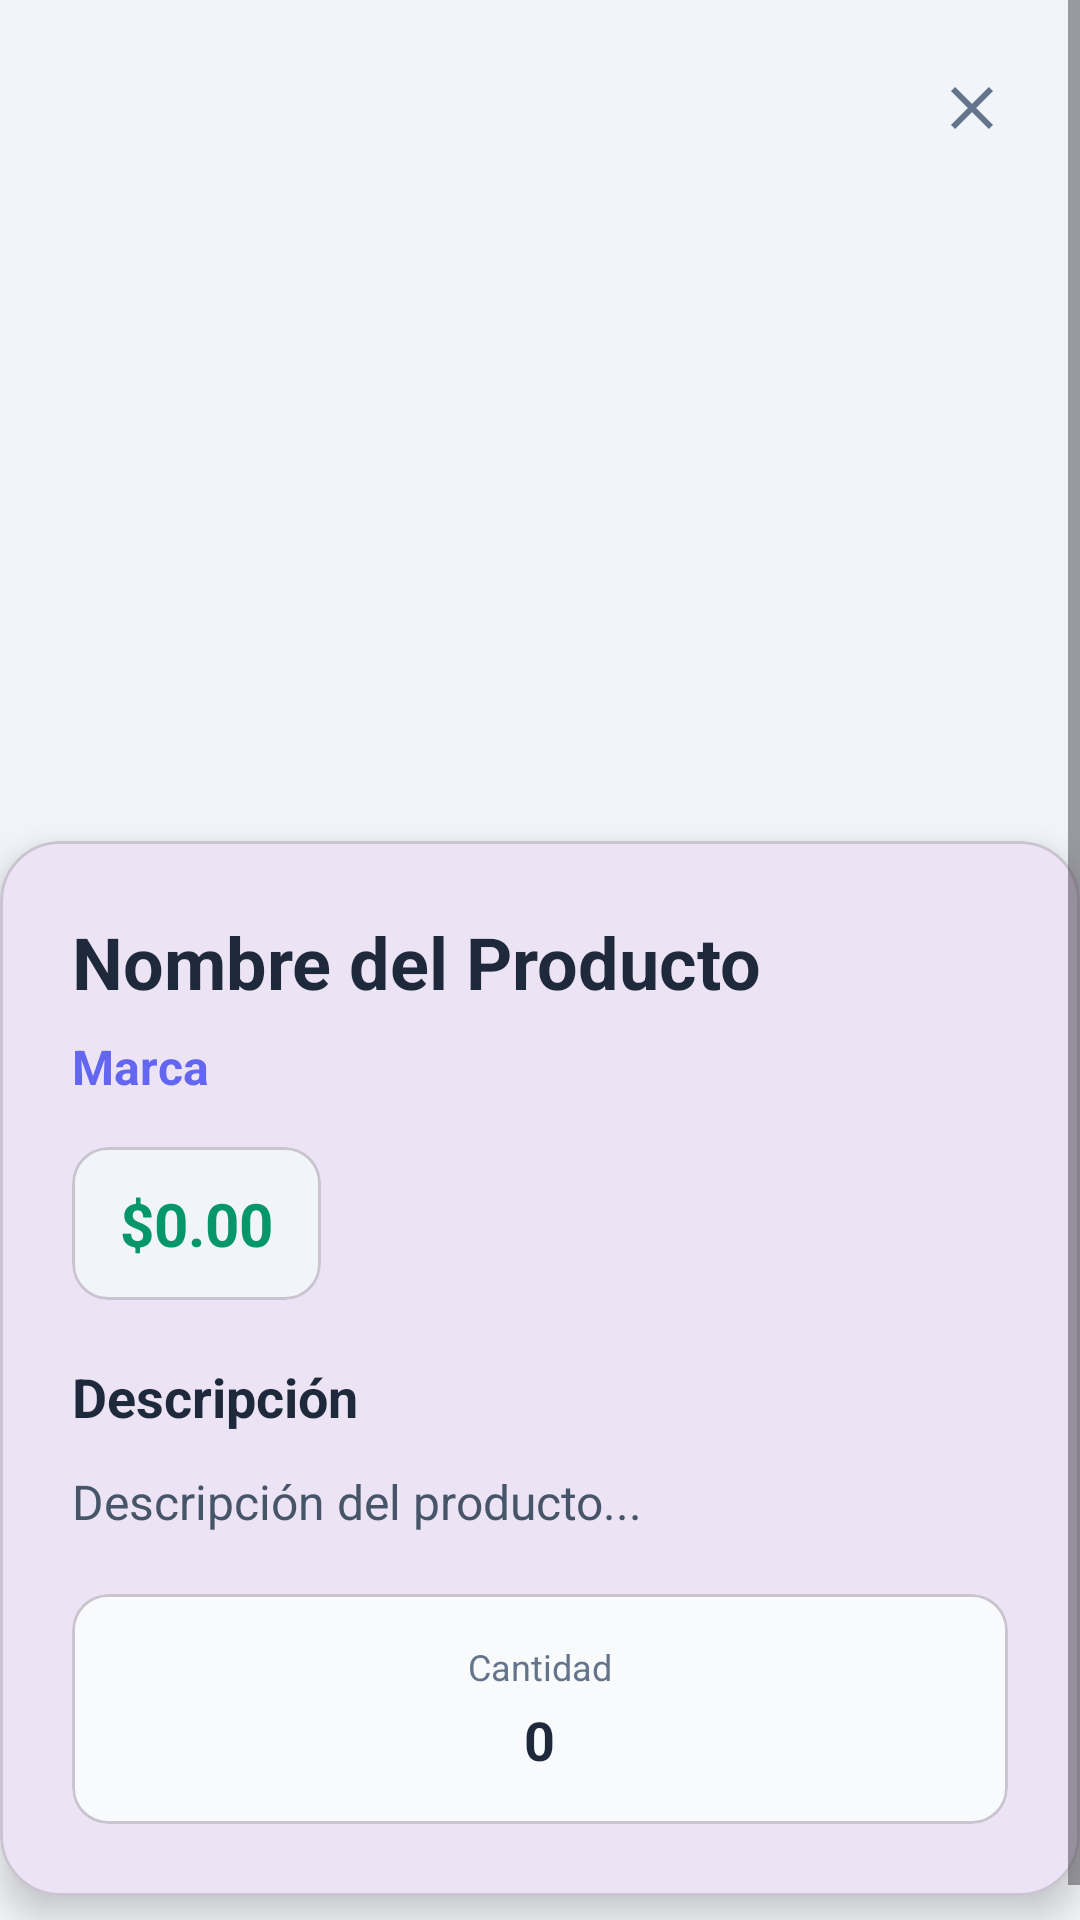

Locate icon controls on the screen. Image size 1080 × 1920, boxes as bbox(x1, y1, x2, y2).
Cerrar: bbox(951, 87, 993, 129)
